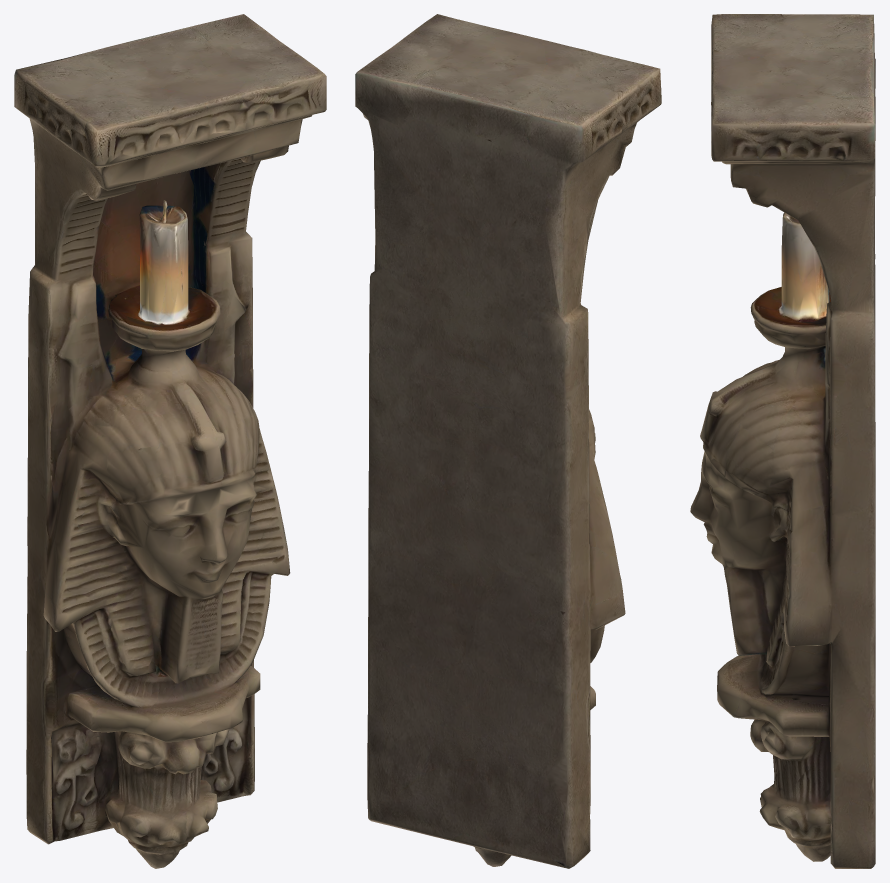
File: wall_torch.glb
The picture shows the model from 3 angles, left to right: view 1: azimuth 30°, elevation 25°; view 2: azimuth 150°, elevation 25°; view 3: azimuth 270°, elevation 25°; orthographic projection. The views are drawn at different scales.
Size of the model in its own units: 0.5866 by 1.91 by 0.4055.
1 material, 1 textured.
